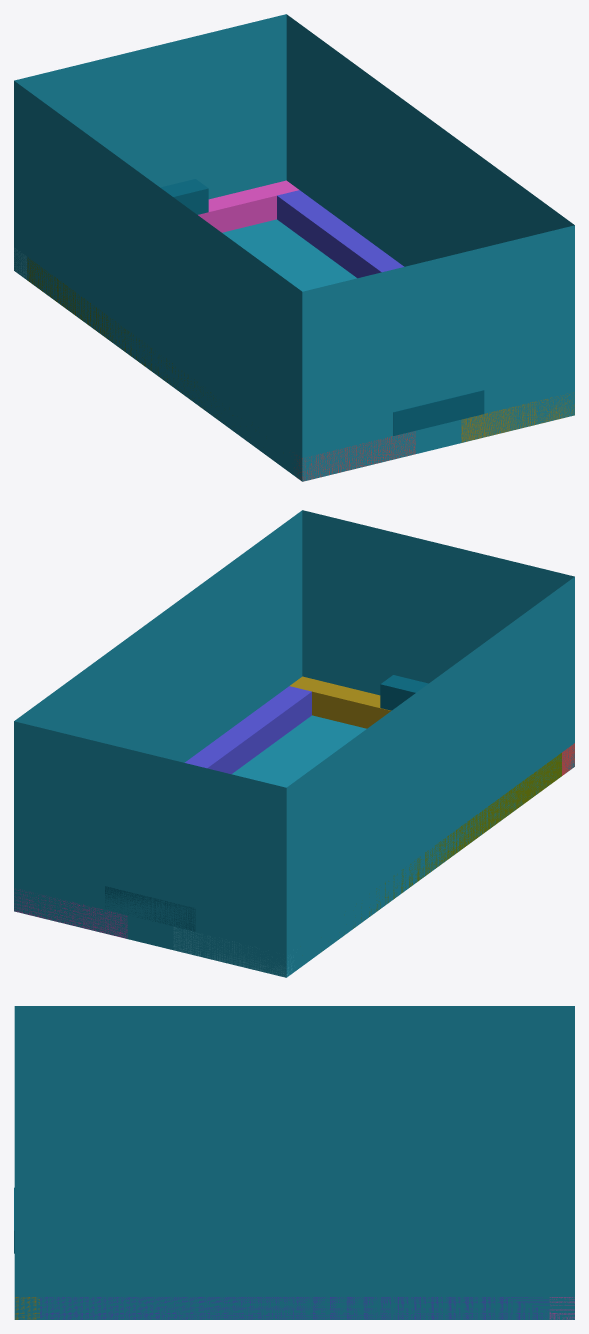
The model's file is arena5.DAE.
The picture shows the model from 3 angles, top to bottom: view 1: azimuth 30°, elevation 25°; view 2: azimuth 150°, elevation 25°; view 3: azimuth 270°, elevation 25°; orthographic projection. The views are drawn at different scales.
Visible parts, largest first — view 1: Plane001, Box003, Box004, Box007, Box001, Box002, Box006, Box008; view 2: Plane001, Box003, Box006, Box001, Box004, Box008, Box007, Box005; view 3: Plane001, Box003.
Boxes of the visible parts, box(x1,y1,x2,y2) form: Plane001: box(14, 14, 574, 481); Box003: box(277, 190, 404, 278); Box004: box(198, 180, 298, 232); Box007: box(393, 390, 484, 435); Box001: box(461, 392, 574, 442); Box002: box(294, 431, 415, 481); Box006: box(27, 257, 232, 415); Box008: box(160, 179, 208, 214); Plane001: box(14, 510, 574, 977); Box003: box(184, 686, 311, 774); Box006: box(353, 753, 561, 927); Box001: box(290, 676, 391, 728); Box004: box(14, 888, 127, 938); Box008: box(105, 886, 195, 931); Box007: box(380, 675, 428, 710); Box005: box(173, 927, 293, 977); Plane001: box(14, 1006, 574, 1319); Box003: box(40, 1297, 549, 1319).
Size of the model in its own units: 120 by 220 by 80.
